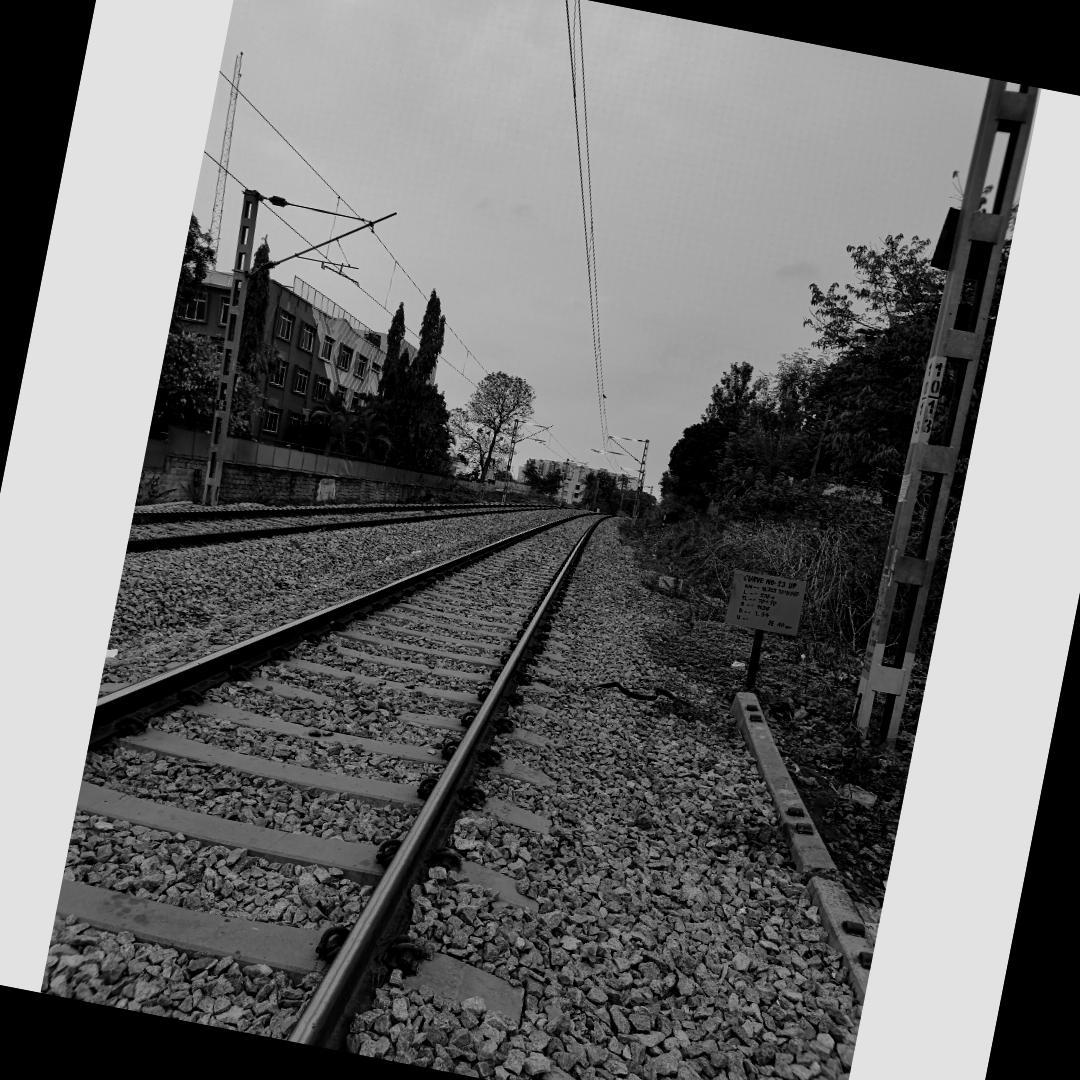track: (42, 510, 632, 1053)
